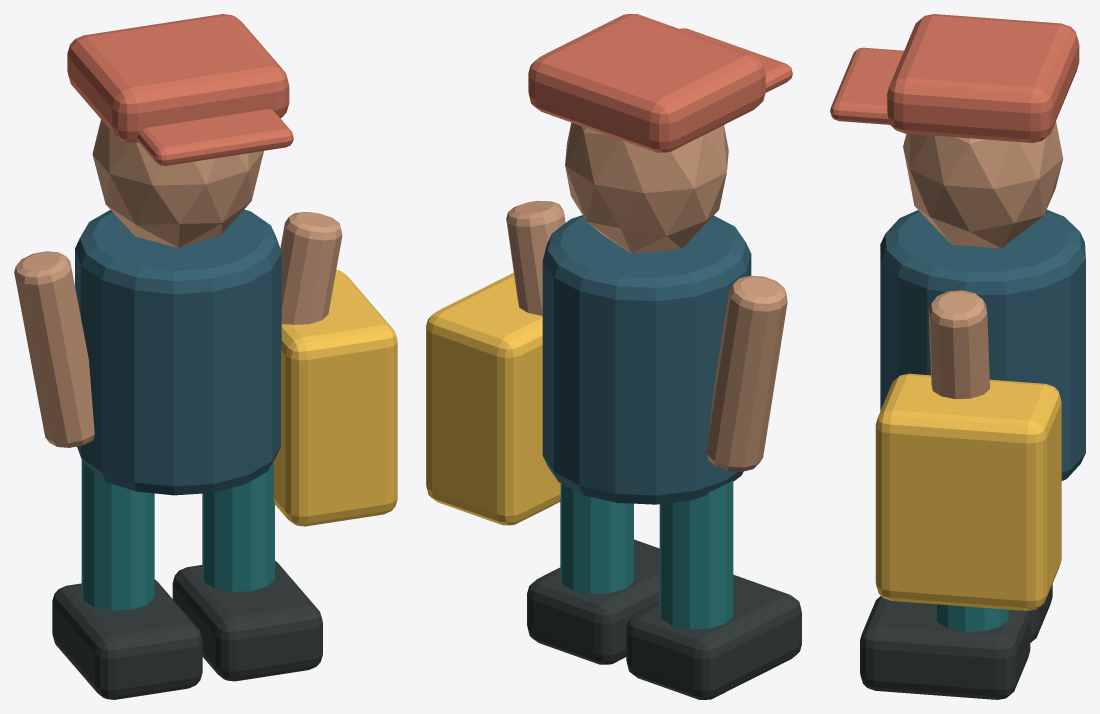
Rendered from engineer-v2.glb.
The picture shows the model from 3 angles, left to right: view 1: azimuth 30°, elevation 25°; view 2: azimuth 150°, elevation 25°; view 3: azimuth 270°, elevation 25°; orthographic projection.
Parts seen in each view (by area): view 1: Engineer torso, Tool satchel, Engineer cap crown, Engineer head, Work boot, Work boot.001, Engineer arm, Engineer leg, Engineer leg.001, Engineer arm.001, Engineer cap brim; view 2: Engineer torso, Tool satchel, Engineer cap crown, Engineer head, Work boot, Engineer arm, Engineer leg, Work boot.001, Engineer leg.001, Engineer arm.001, Engineer cap brim; view 3: Tool satchel, Engineer torso, Engineer cap crown, Engineer head, Work boot.001, Engineer arm.001, Engineer cap brim, Engineer leg.001, Work boot.
Boxes of the visible parts, x1,y1,x2,y2 form: Engineer torso: (75, 209, 281, 495); Tool satchel: (273, 270, 397, 526); Engineer cap crown: (67, 14, 289, 142); Engineer head: (92, 119, 263, 247); Work boot: (52, 579, 202, 699); Work boot.001: (172, 561, 322, 681); Engineer arm: (14, 251, 94, 447); Engineer leg: (81, 460, 154, 610); Engineer leg.001: (202, 461, 274, 591); Engineer arm.001: (280, 212, 342, 324); Engineer cap brim: (137, 109, 293, 165); Engineer torso: (542, 215, 751, 504); Tool satchel: (426, 272, 560, 525); Engineer cap crown: (528, 14, 765, 152); Engineer head: (565, 122, 728, 253); Work boot: (626, 574, 801, 699); Engineer arm: (706, 275, 787, 471); Engineer leg: (659, 480, 733, 629); Work boot.001: (527, 539, 659, 664); Engineer leg.001: (560, 483, 633, 593); Engineer arm.001: (506, 200, 565, 315); Engineer cap brim: (680, 28, 792, 92); Tool satchel: (875, 373, 1061, 610); Engineer torso: (880, 209, 1085, 480); Engineer cap crown: (887, 14, 1079, 142); Engineer head: (903, 121, 1063, 248); Work boot.001: (860, 596, 1030, 699); Engineer arm.001: (928, 290, 989, 399); Engineer cap brim: (830, 47, 903, 124); Engineer leg.001: (935, 604, 1008, 631); Work boot: (1028, 584, 1052, 642).
Size of the model in its own units: 1.6 by 2.67 by 1.03.
